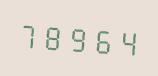eight: (42, 17, 65, 55)
four: (114, 22, 137, 60)
nine: (66, 19, 89, 56)
seven: (18, 15, 41, 53)
six: (90, 20, 113, 58)
